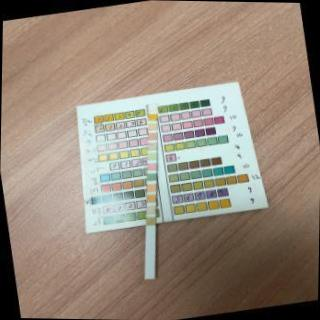mark: (146, 205, 155, 214), (146, 217, 156, 225), (147, 194, 156, 202), (148, 132, 157, 140), (146, 173, 156, 180), (147, 184, 155, 192), (148, 152, 156, 160), (148, 114, 158, 120), (148, 163, 156, 170), (148, 143, 156, 150), (148, 124, 157, 130), (148, 106, 157, 111)
